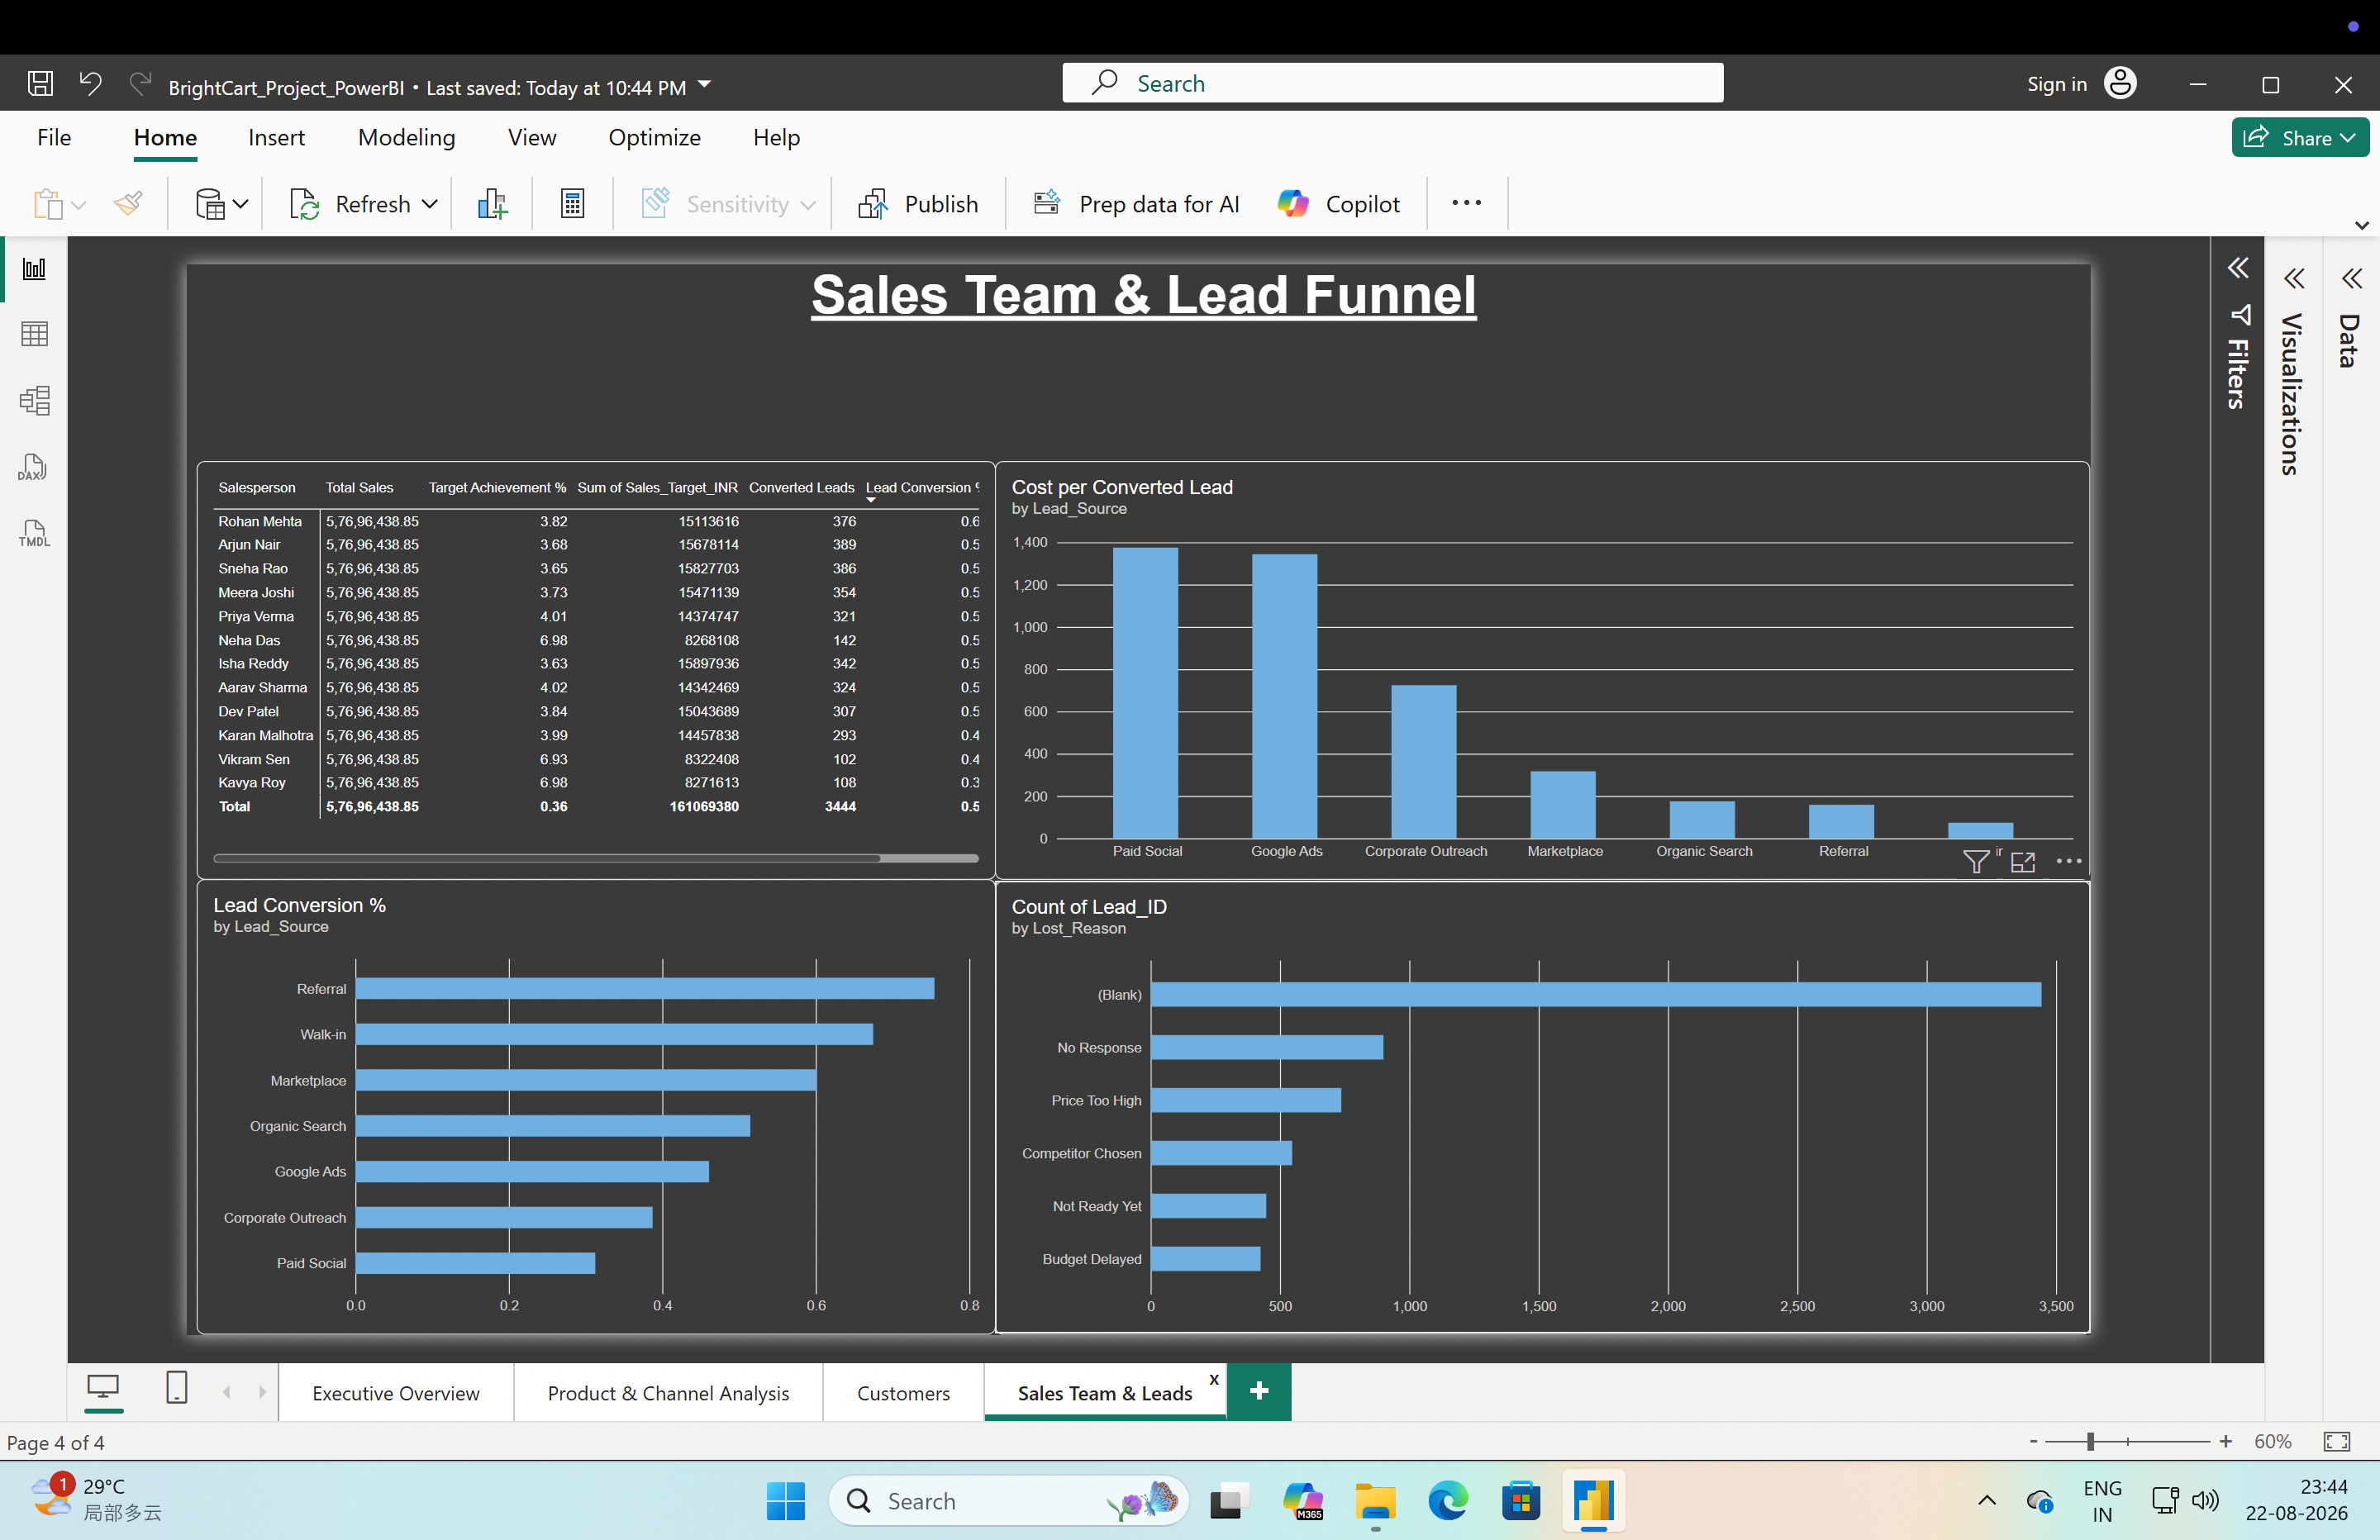

The dashboard page shown, as its layout file describes it:
{"tool":"powerbi","page":{"name":"Sales Team & Leads","canvas":[1920,1080],"ordinal":3},"visuals":[{"type":"textbox","box":[9.2,0,1910.8,112.5],"z":0},{"type":"pivotTable","fields":{"Rows":["DimSalesperson.Salesperson"],"Values":["SalesTransactionsTable.Total Sales","SalesTransactionsTable.Target Achievement %","Sum(MonthlyTargetsTable.Sales_Target_INR)","SalesTransactionsTable.Converted Leads","SalesTransactionsTable.Lead Conversion %","SalesTransactionsTable.Total Leads"]},"box":[9.2,197.5,806.1,422.6],"z":1000},{"type":"barChart","fields":{"Category":["LeadsPipelineTable.Lead_Source"],"Y":["SalesTransactionsTable.Lead Conversion %"]},"box":[9.2,620.1,806.1,459.3],"z":2000},{"type":"columnChart","fields":{"Category":["LeadsPipelineTable.Lead_Source"],"Y":["SalesTransactionsTable.Cost per Converted Lead"]},"box":[815.3,197.5,1104.7,422.6],"z":3000},{"type":"barChart","fields":{"Category":["LeadsPipelineTable.Lost_Reason"],"Y":["CountNonNull(LeadsPipelineTable.Lead_ID)"]},"box":[815,621,1105,458],"z":4000}]}

Visuals, with their boxes on the page's 1920x1080 design canvas (x1, y1, x2, y2). These are canvas units, not pixel positions in the 2380x1540 screenshot, which may show the page scaled, cropped or inside an application window:
textbox: region(9, 0, 1920, 112)
pivotTable - DimSalesperson.Salesperson x SalesTransactionsTable.Total Sales: region(9, 198, 815, 620)
barChart - LeadsPipelineTable.Lead_Source x SalesTransactionsTable.Lead Conversion %: region(9, 620, 815, 1079)
columnChart - LeadsPipelineTable.Lead_Source x SalesTransactionsTable.Cost per Converted Lead: region(815, 198, 1920, 620)
barChart - LeadsPipelineTable.Lost_Reason x CountNonNull(LeadsPipelineTable.Lead_ID): region(815, 621, 1920, 1079)
